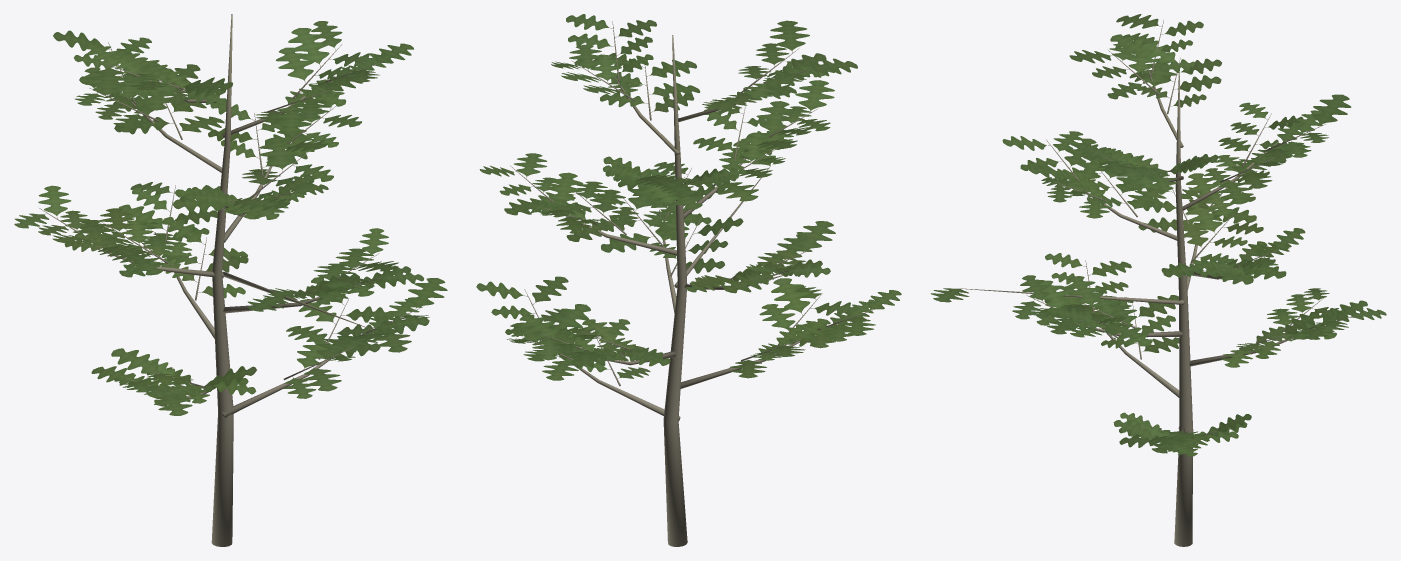
Rendered from white_oak_young_hybrid.glb.
3 views of the same model, side by side, from view 1: azimuth 30°, elevation 25°; view 2: azimuth 150°, elevation 25°; view 3: azimuth 270°, elevation 25° (orthographic). The views are drawn at different scales.
Parts seen in each view (by area): view 1: OakFoliage, YoungOakBranches, ReferenceLeaf; view 2: OakFoliage, YoungOakBranches; view 3: OakFoliage, YoungOakBranches.
Boxes of the visible parts, x1=… form: OakFoliage: x1=14, y1=21, x2=447, y2=415; YoungOakBranches: x1=39, y1=14, x2=423, y2=546; ReferenceLeaf: x1=375, y1=314, x2=429, y2=334; OakFoliage: x1=476, y1=14, x2=901, y2=380; YoungOakBranches: x1=510, y1=21, x2=874, y2=546; OakFoliage: x1=1002, y1=14, x2=1386, y2=456; YoungOakBranches: x1=961, y1=20, x2=1352, y2=546.
Size of the model in its own units: 1.46 by 1.85 by 1.62.
